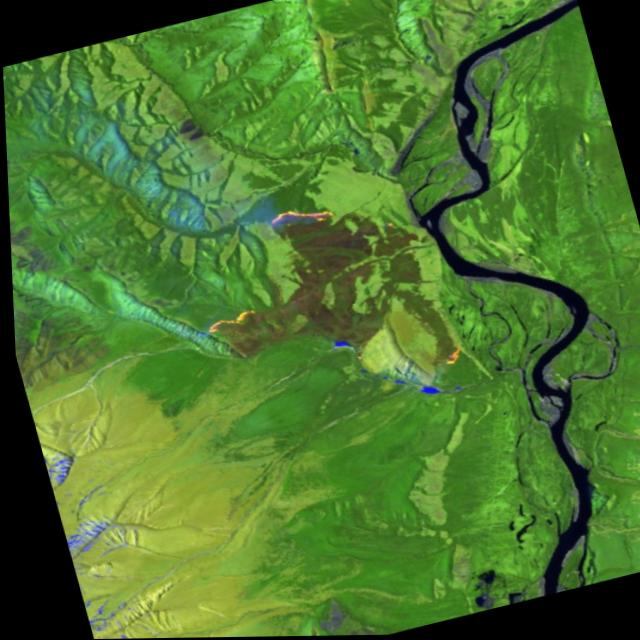fire: (258, 192, 347, 241), (192, 302, 261, 342), (432, 341, 468, 372)
